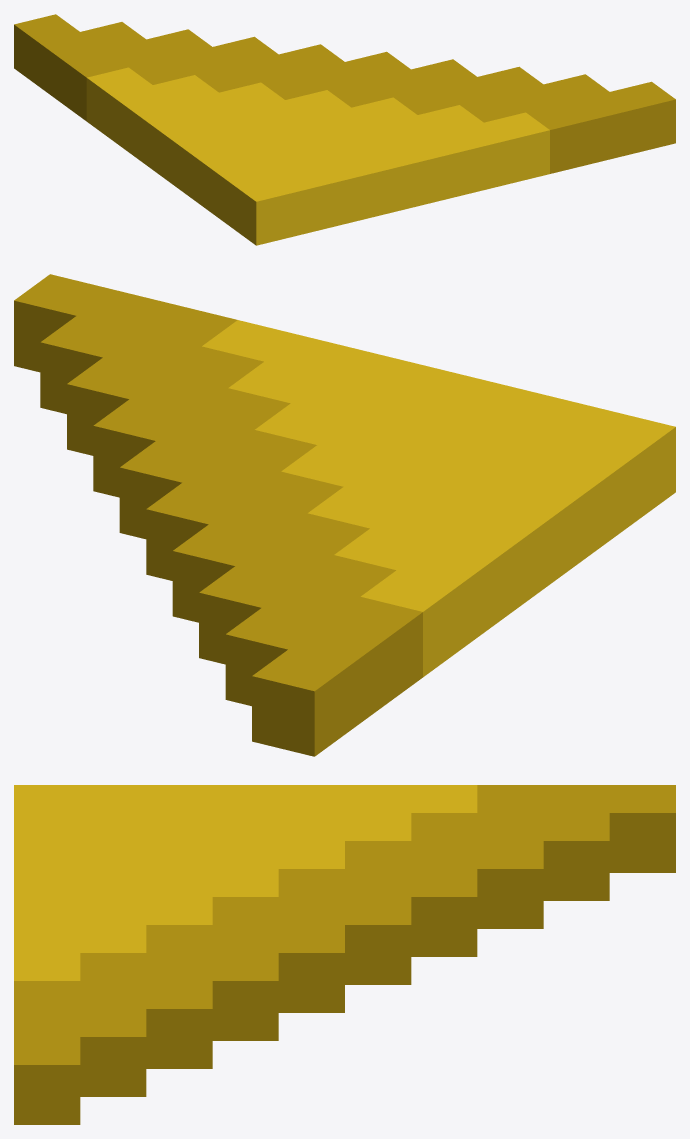
Rendered from path_yel_bilow_corner_big.obj.
The picture shows the model from 3 angles, top to bottom: view 1: azimuth 30°, elevation 25°; view 2: azimuth 150°, elevation 25°; view 3: azimuth 270°, elevation 25°; orthographic projection. The views are drawn at different scales.
Bounding box in the file's own units: 1 × 0.1 × 1.
Materials: 1 (1 with a texture image).
